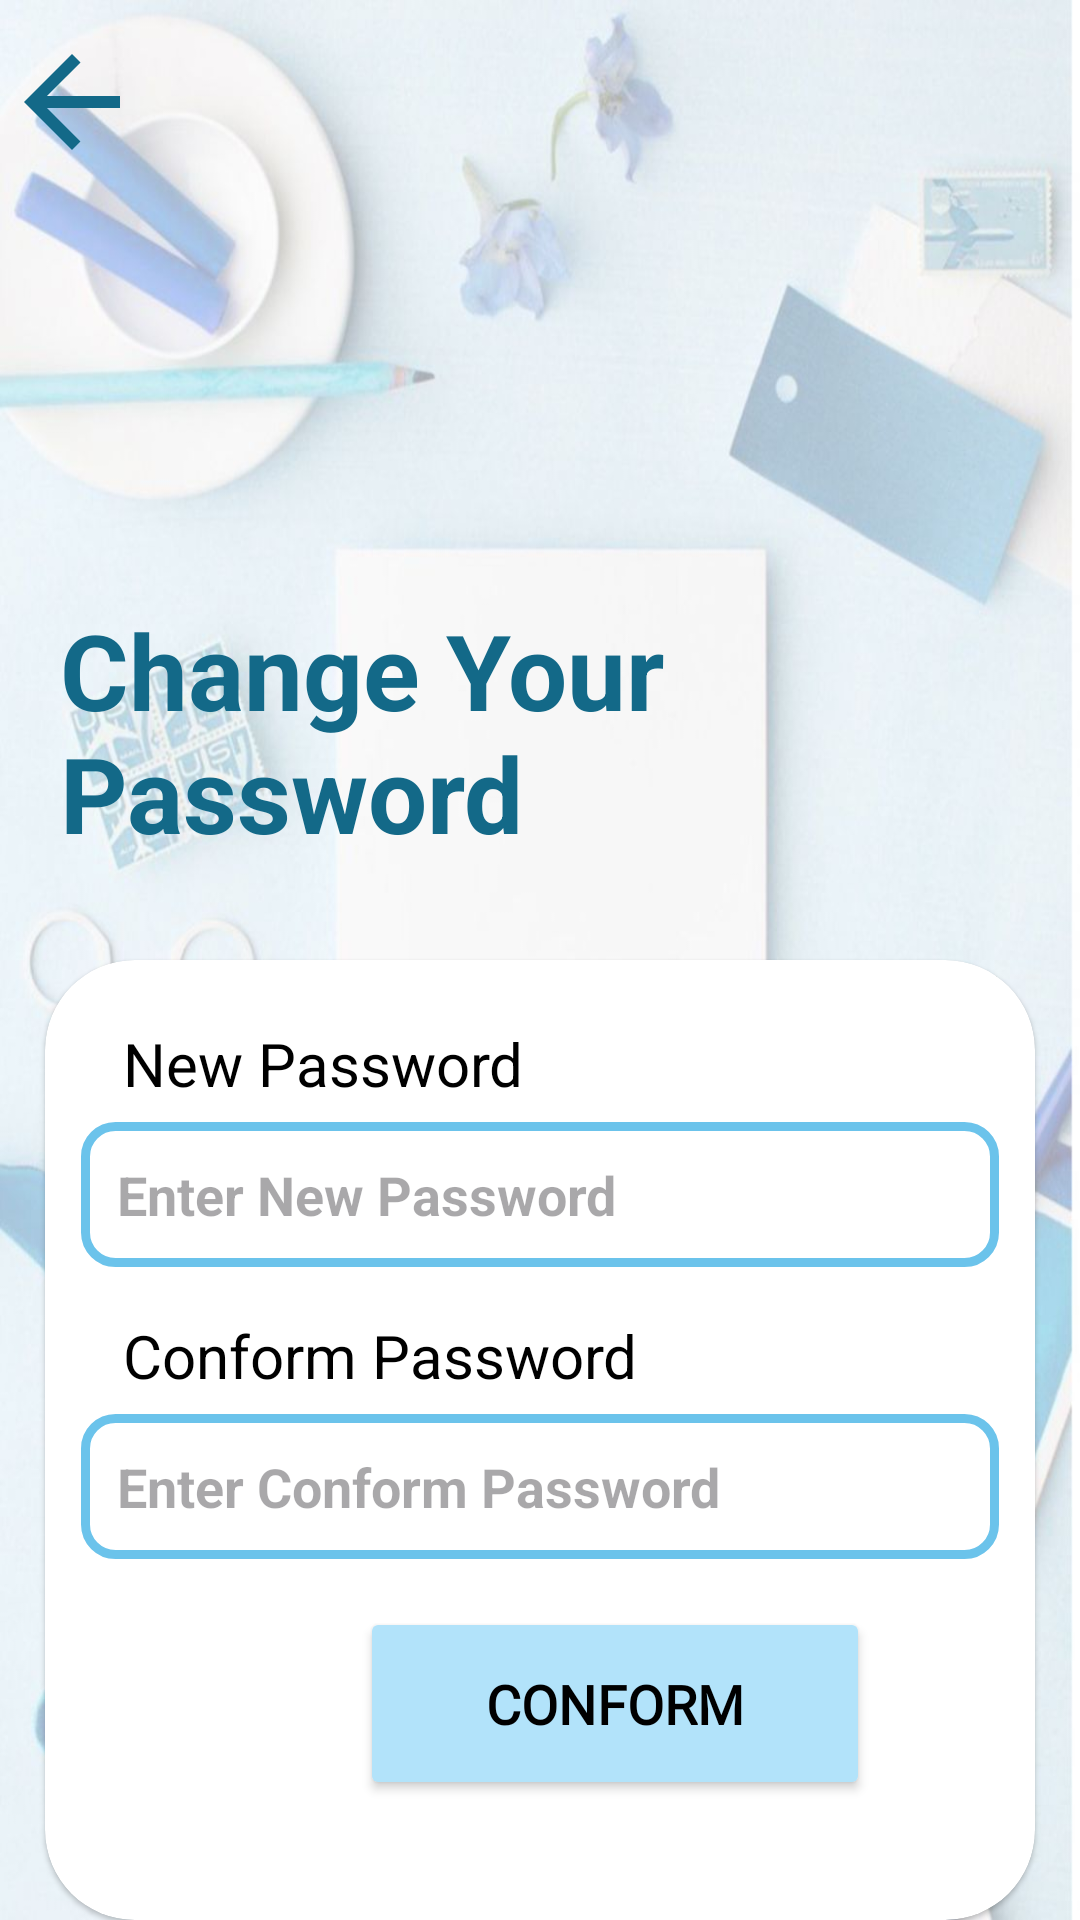

Point at icon controls on the screen. Image size 1080px×1920px, points as [x,y].
arrow back brown: [84,114]
